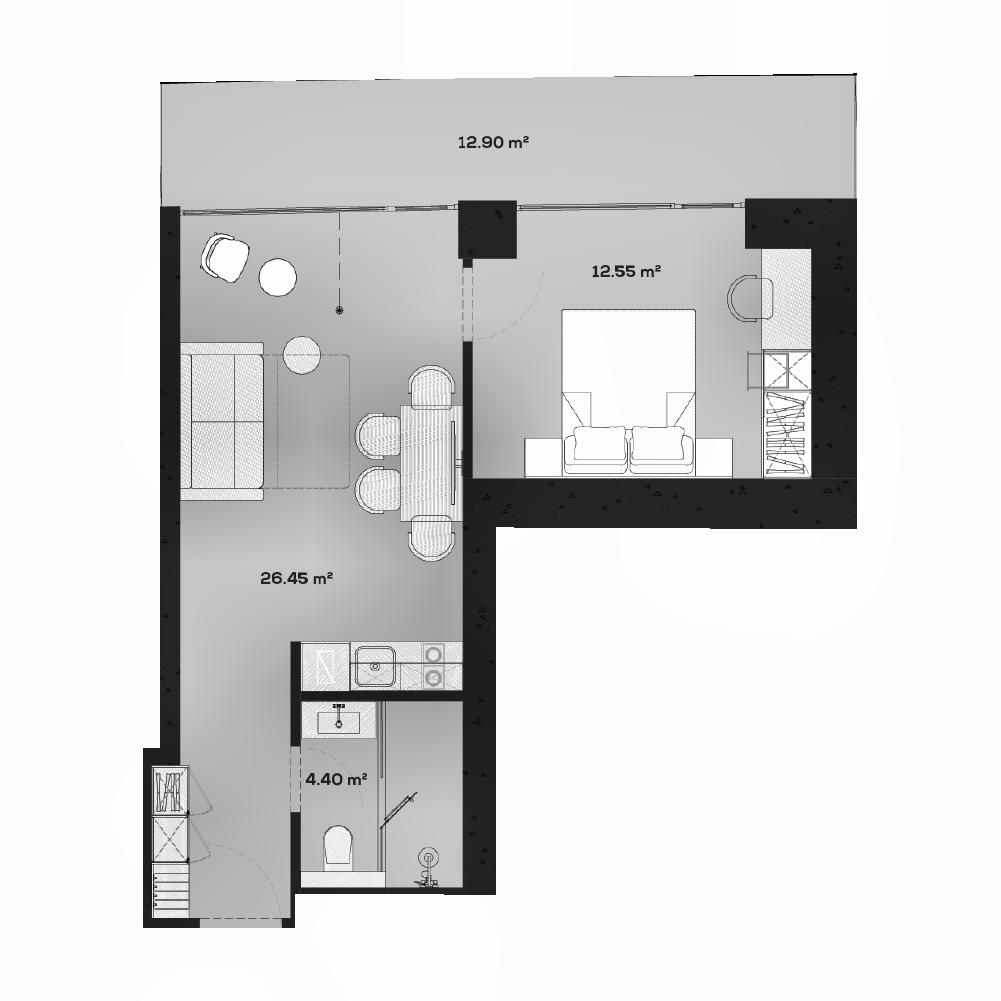door: (374, 772, 420, 836), (458, 262, 481, 350), (195, 913, 286, 935)
